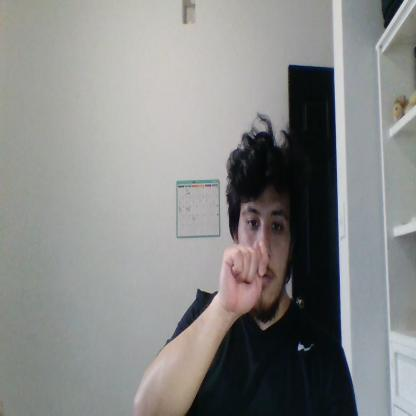T: (219, 238, 270, 315)
